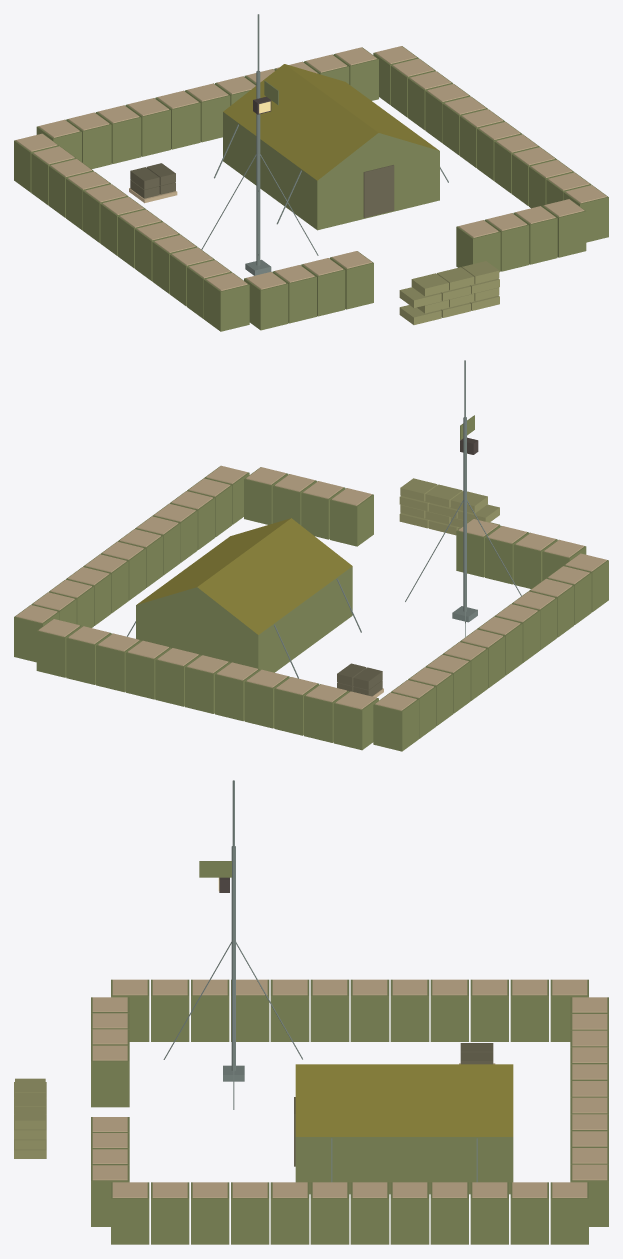
Rendered from SM_PuestoFrente_v2_LOD0.fbx.
3 views of the same model, one above another, from view 1: azimuth 30°, elevation 25°; view 2: azimuth 150°, elevation 25°; view 3: azimuth 270°, elevation 25° (orthographic). The views are drawn at different scales.
Visible parts, largest first — view 1: SM_bloques.puesto_frente_v2_LOD0; view 2: SM_bloques.puesto_frente_v2_LOD0; view 3: SM_bloques.puesto_frente_v2_LOD0.
Part boxes in pixels (x1,y1,x2,y2): SM_bloques.puesto_frente_v2_LOD0: (14, 14, 608, 331); SM_bloques.puesto_frente_v2_LOD0: (14, 360, 608, 751); SM_bloques.puesto_frente_v2_LOD0: (14, 780, 608, 1244).
Size of the model in its own units: 14.26 by 9 by 16.38.
